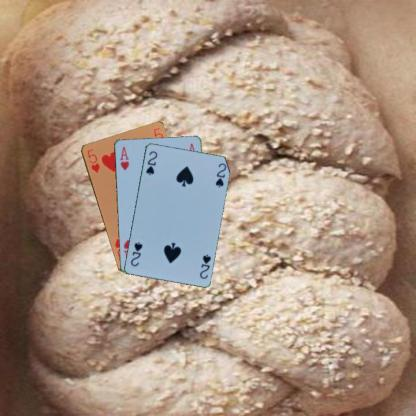2s: (197, 251, 212, 280), (144, 148, 158, 176)
5h: (84, 146, 100, 174)
Ah: (117, 144, 130, 171)
